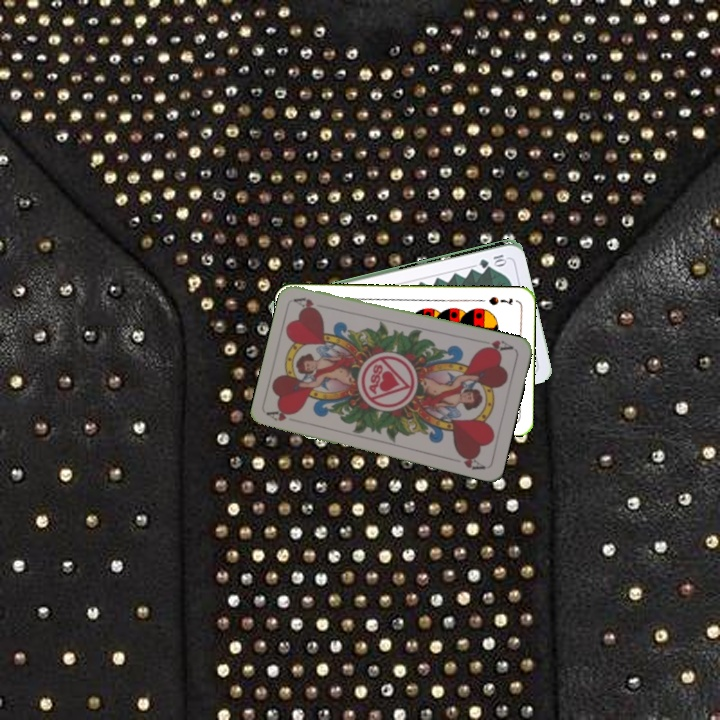G10: (475, 250, 509, 268)
HA: (476, 336, 516, 355), (264, 406, 298, 424)
S7: (485, 293, 515, 308)
